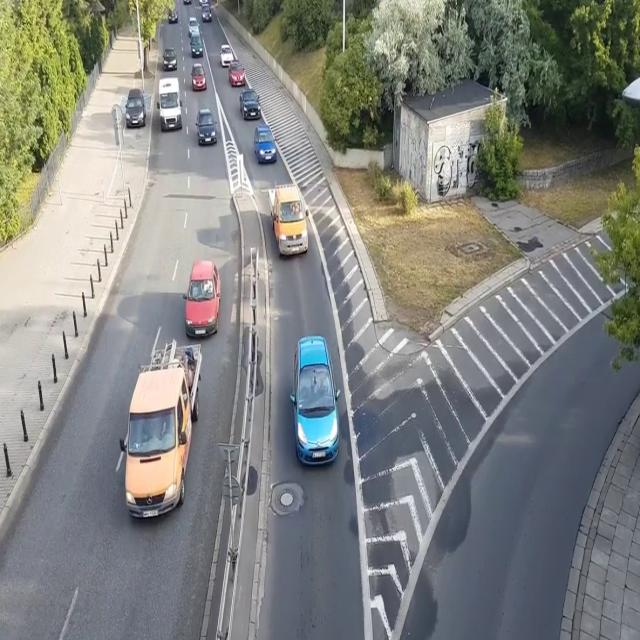car: (288, 334, 343, 466), (183, 255, 221, 339), (252, 123, 277, 165), (124, 88, 148, 130), (195, 106, 218, 148), (239, 88, 261, 121), (228, 59, 246, 86), (191, 62, 206, 92), (162, 48, 178, 71), (220, 42, 233, 65), (187, 15, 200, 37), (201, 4, 212, 23), (168, 6, 178, 25), (198, 0, 208, 5), (182, 0, 192, 5)
truck: (119, 339, 203, 520), (266, 180, 310, 260)
van: (157, 78, 183, 132), (190, 32, 203, 59)
